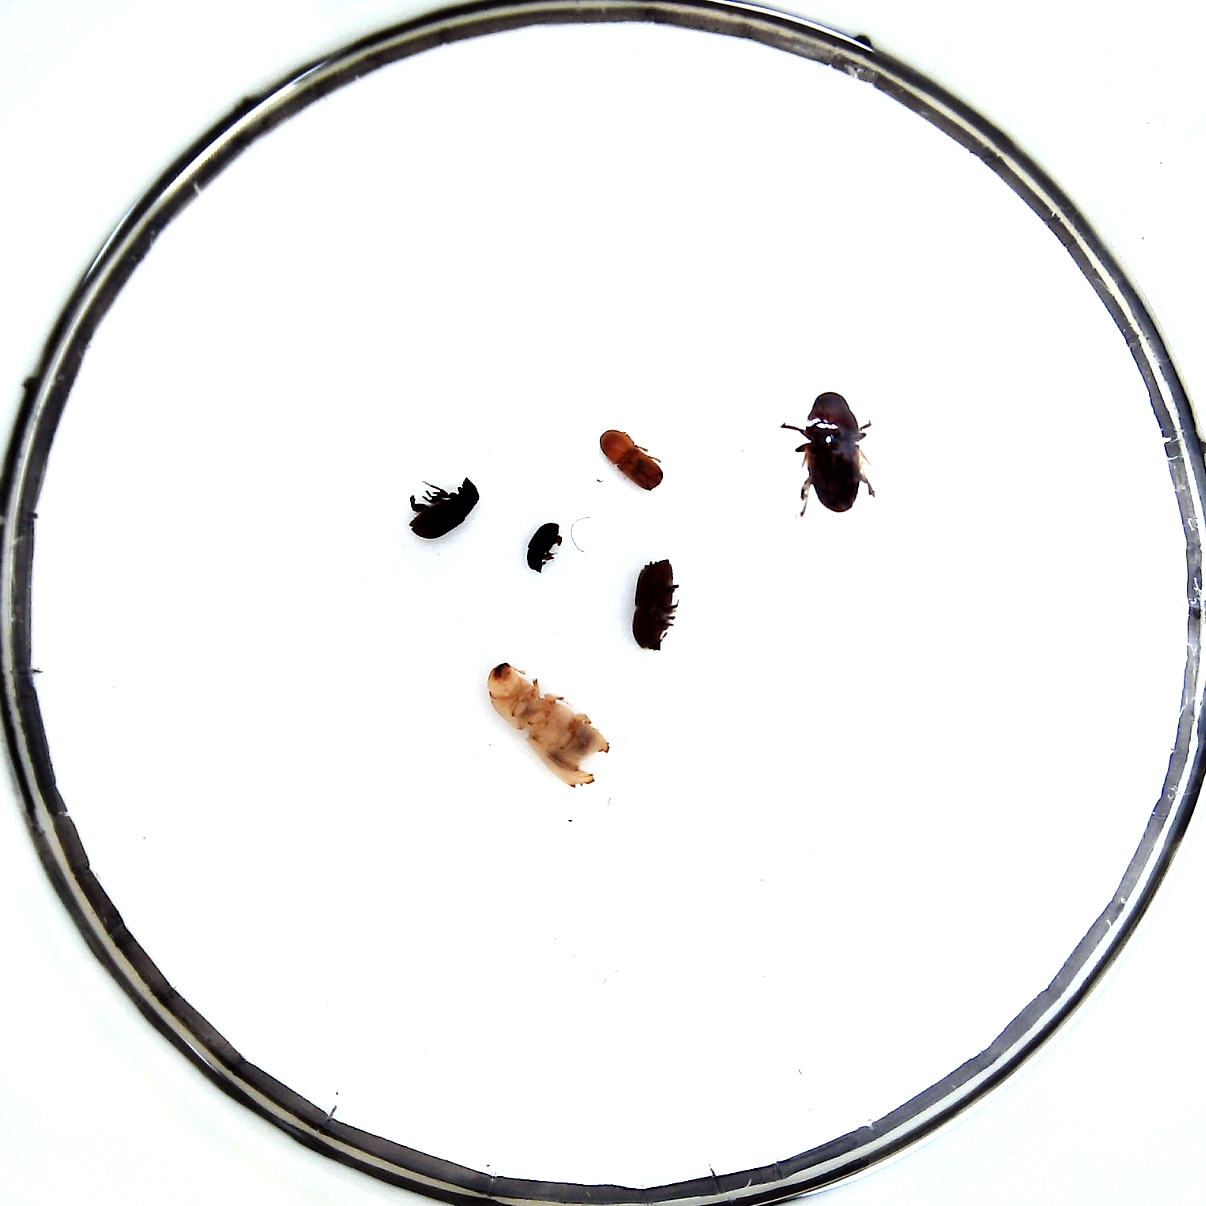Boerner: (488, 662, 610, 789)
Leconte: (802, 392, 861, 514)
acuminatus: (527, 522, 561, 571)
armandi: (410, 477, 479, 539)
linnaeus: (632, 558, 680, 652), (599, 429, 663, 491)
